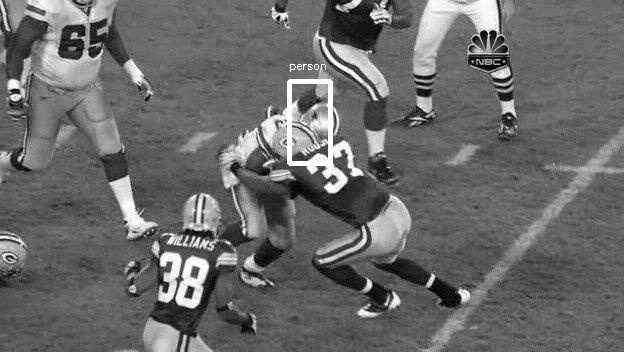person: (304, 104, 340, 150), (303, 104, 339, 150), (305, 104, 341, 150), (304, 103, 340, 149), (304, 105, 340, 151)
target_negative: (170, 172, 521, 243), (70, 282, 539, 319), (397, 48, 593, 112), (407, 117, 468, 313), (278, 5, 427, 71), (506, 146, 560, 188)
